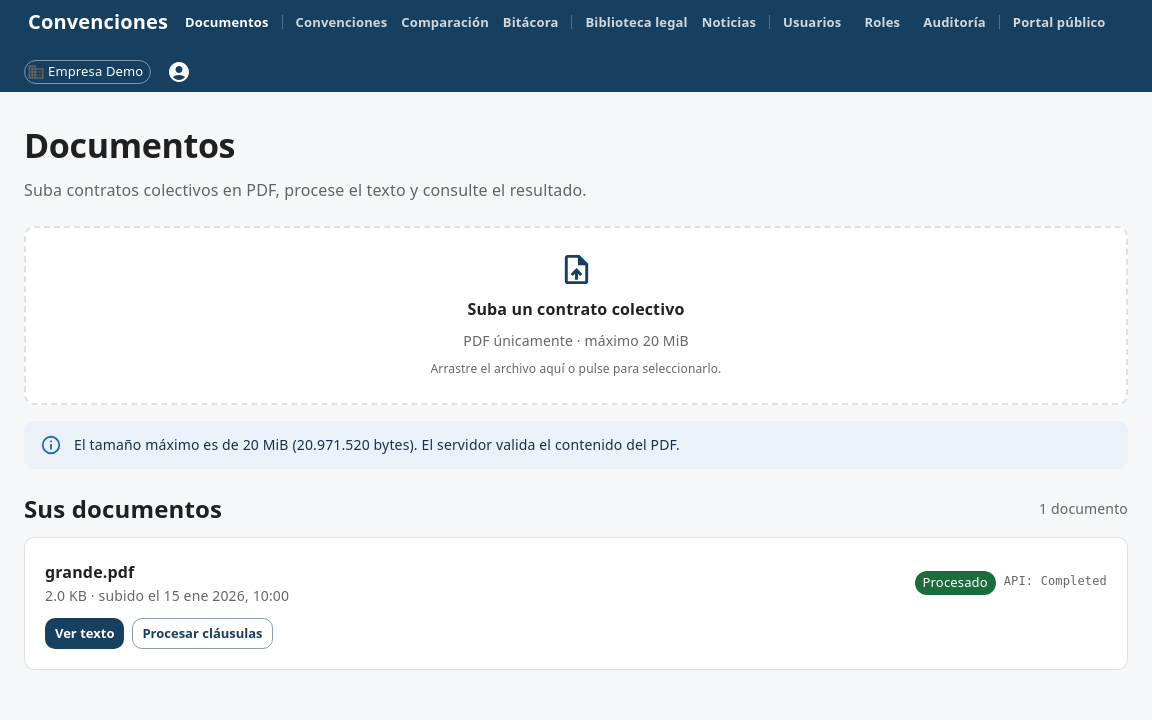
Test: ClauseProcessingDialog › reaches clauses beyond the first hundred and keeps a decision across pages
Click the button "Procesar cláusulas" at (202, 633), box [132,618,272,649]
(page scrolled)
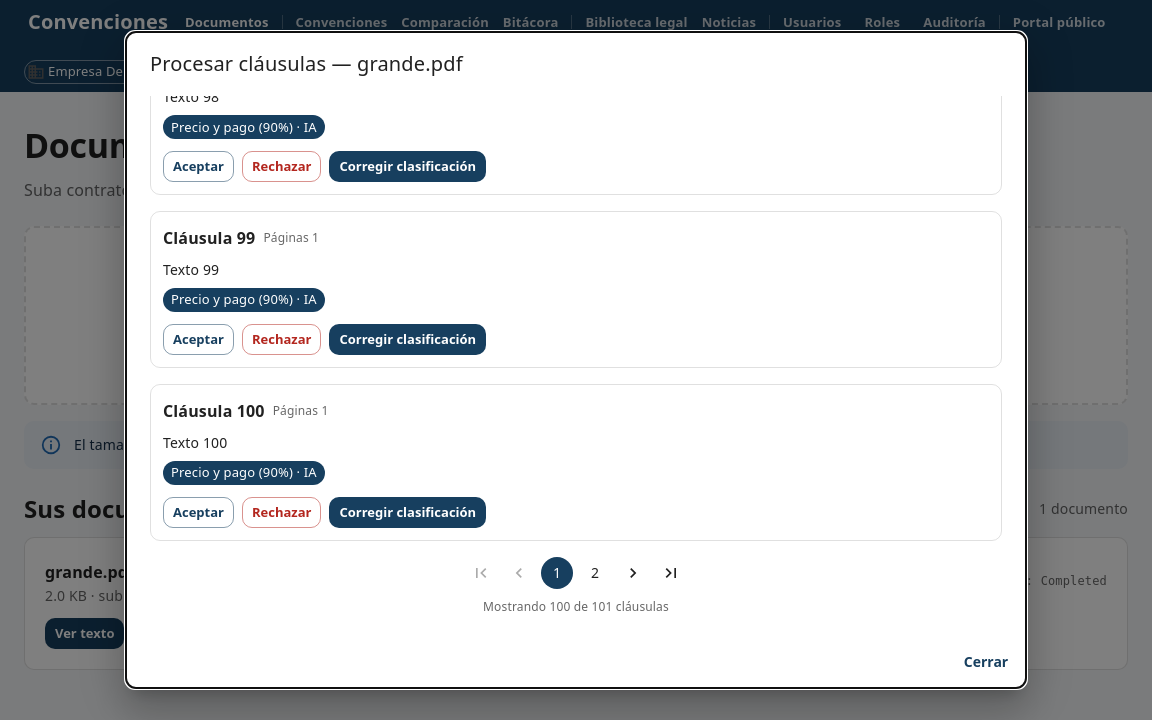
Expected: the text "Texto 101" is not shown
Click the button named "Go to next page" at (633, 573), box [617,557,649,589]
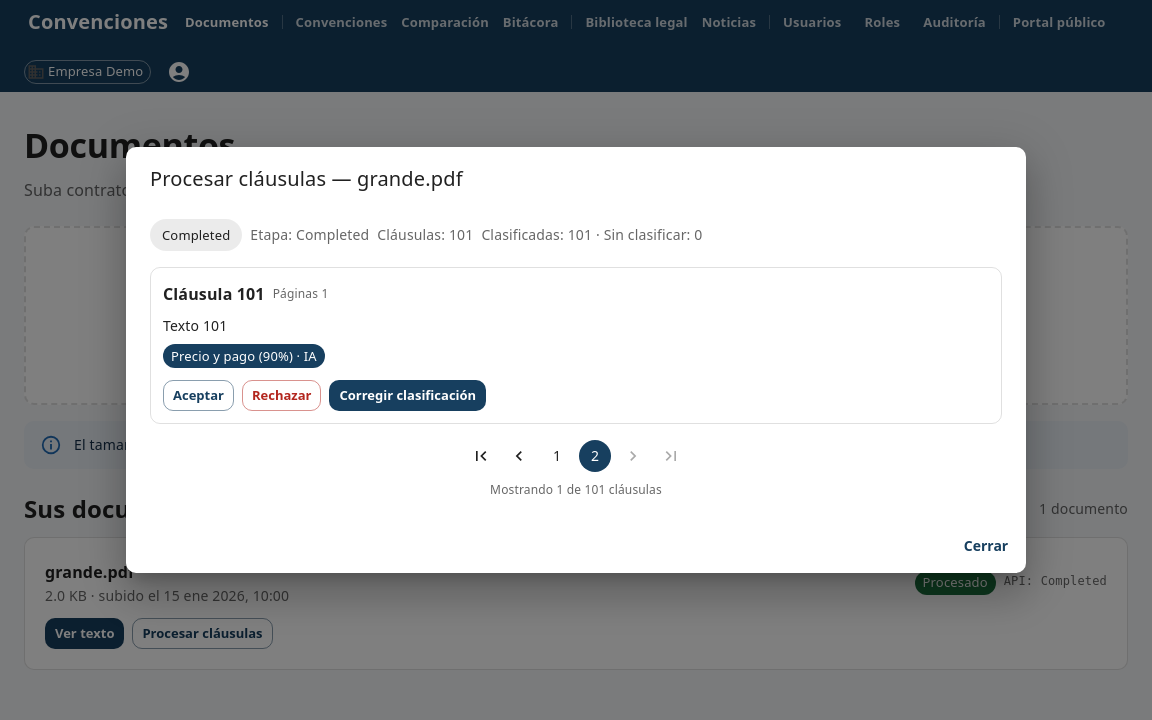
Expected: the text "Texto 101" is shown, [163,316,227,335]
Click the button "Aceptar" at (198, 396), box [163,380,234,411]
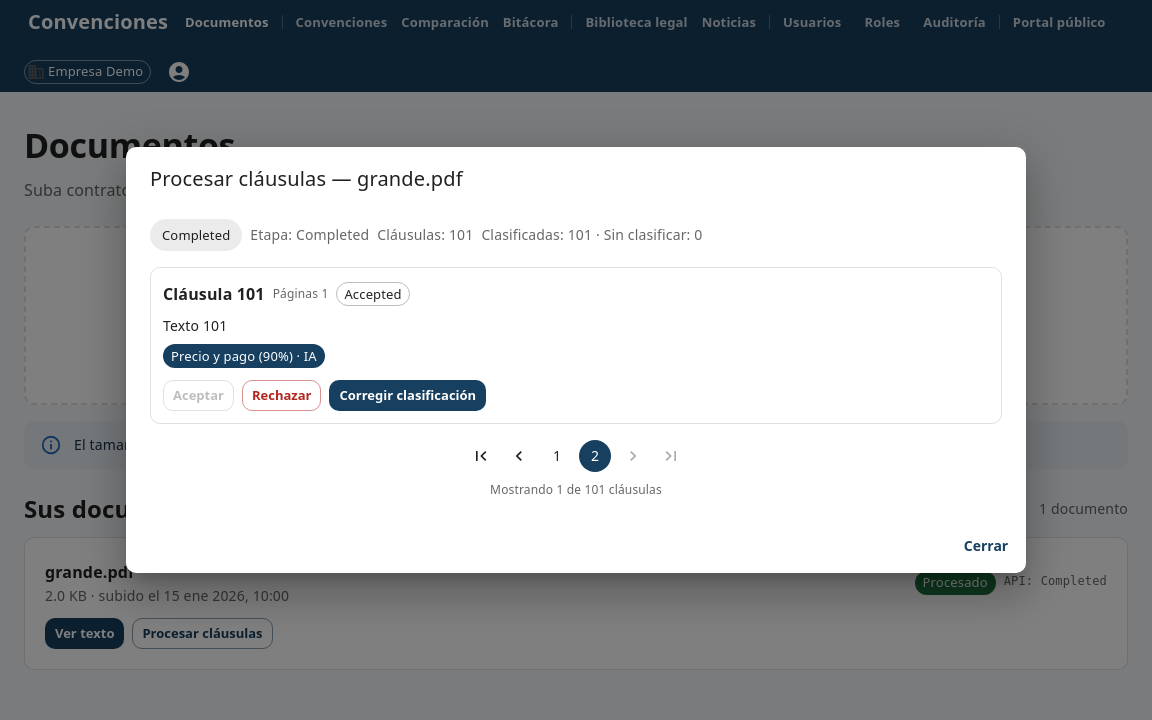
Expected: the text "Accepted" is shown, [344,285,402,303]
Click the button named "Go to previous page" at (519, 456), box [503,440,535,472]
(page scrolled)
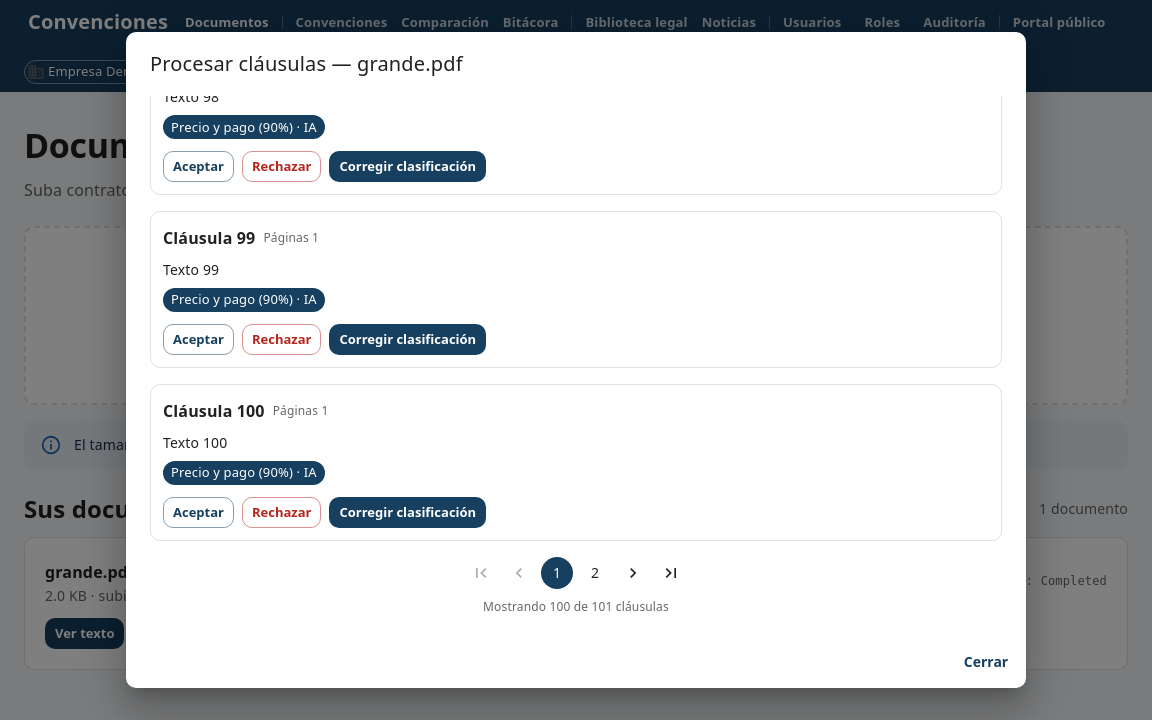
Click the button named "Go to next page" at (633, 573), box [617,557,649,589]
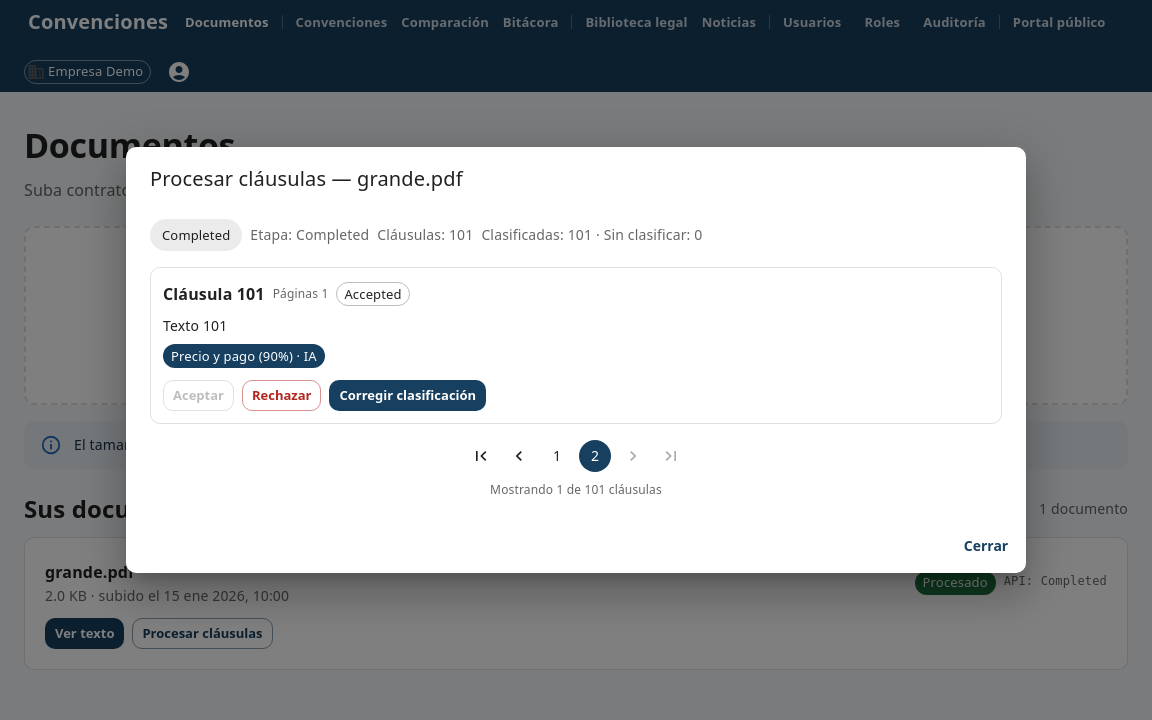
Expected: the text "Accepted" is shown, [344,285,402,303]
